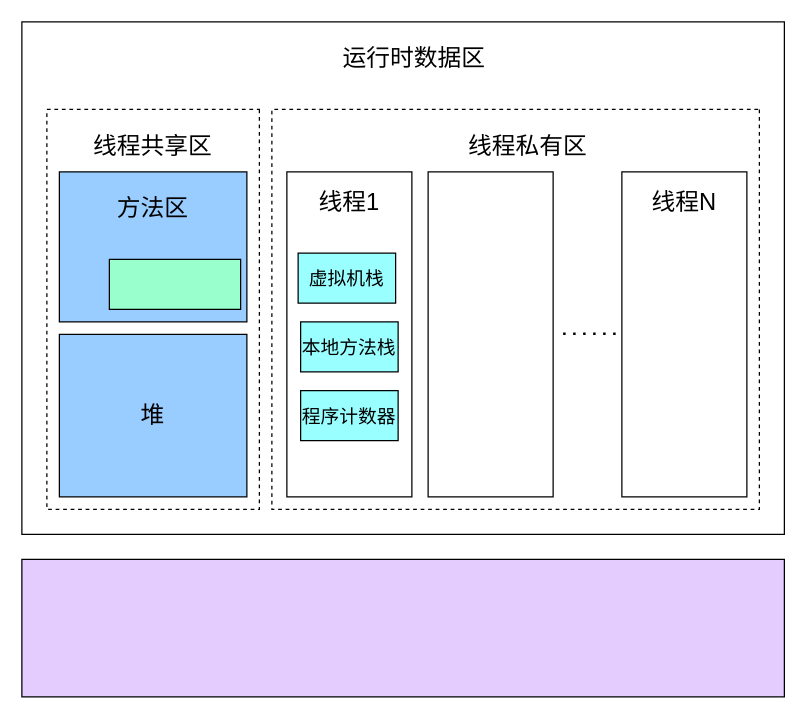
This 806x719 diagram has some shape labels left out. Each missing label, with the box of its shape:
直接内存: (21, 558, 784, 697)
线程2: (427, 171, 553, 497)
运行时常量池: (108, 258, 241, 309)
